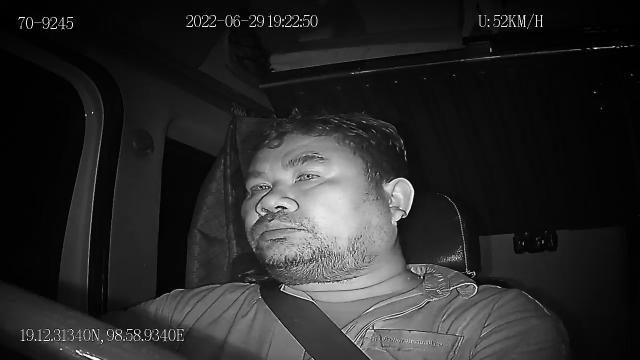SafeDriving: (291, 160, 329, 190), (242, 172, 276, 198)
Seatbelt: (257, 274, 373, 360)
